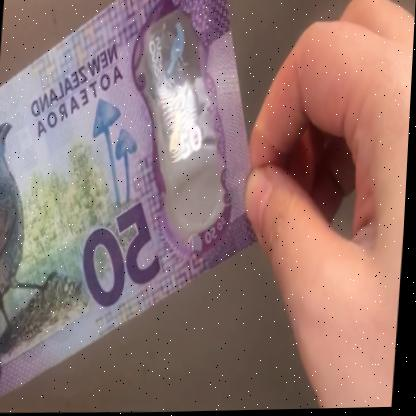50B: (137, 17, 220, 229)
